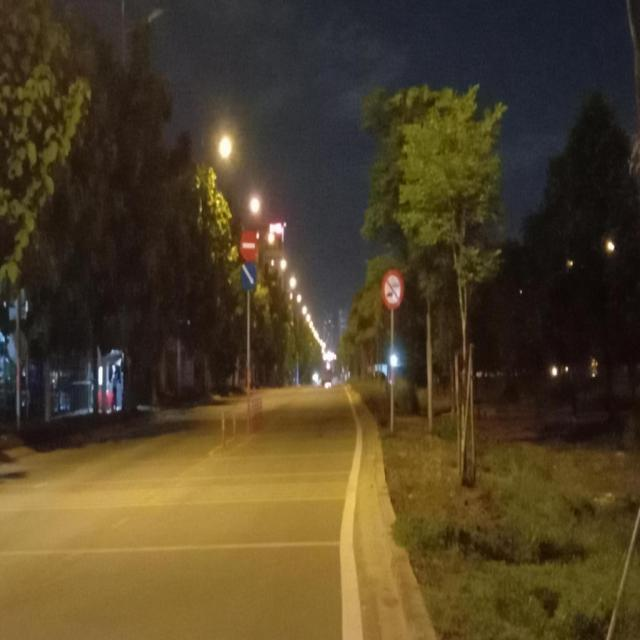cam_o_to_tai_va_xe_khach: (382, 267, 404, 311)
cam_xe_di_nguoc_chieu: (240, 230, 258, 260)
huong_phai_di_vuot_chuong_ngai_vat_phai: (240, 261, 256, 291)
